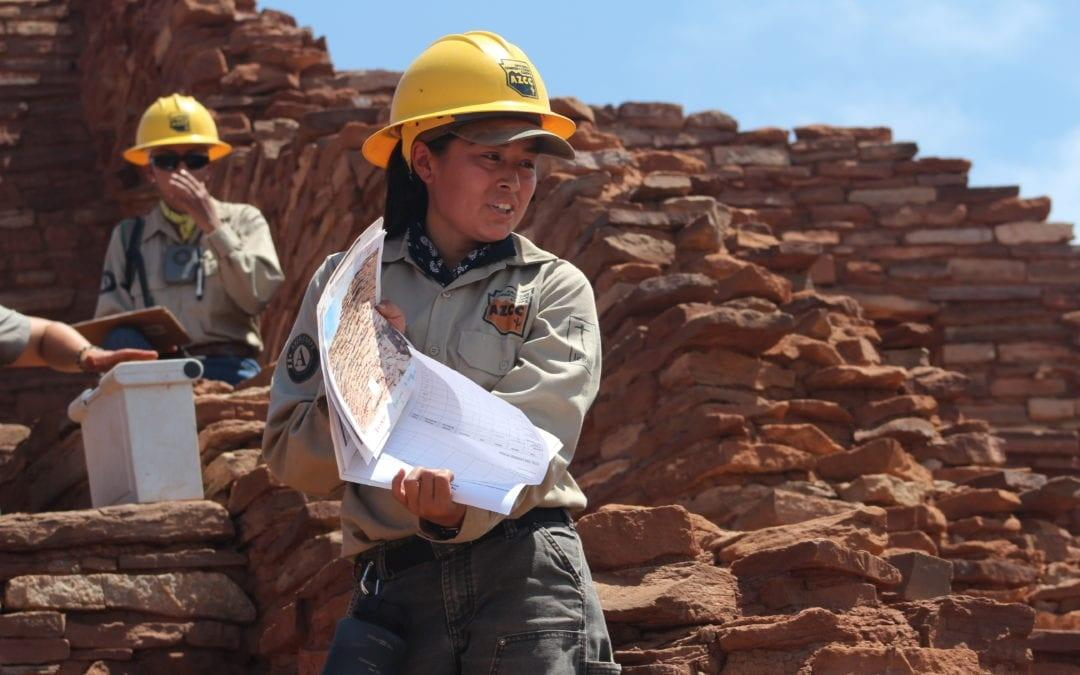helmet: (365, 28, 587, 165), (121, 91, 240, 166)
wear: (321, 249, 587, 540), (105, 204, 271, 343)
